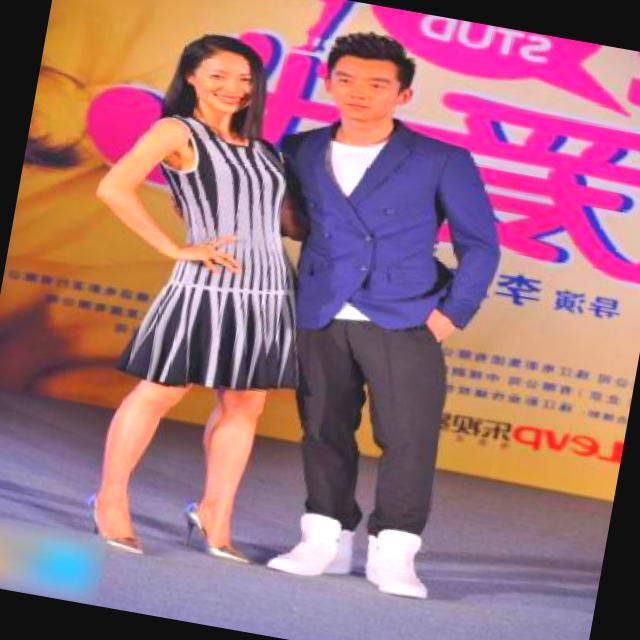Person: (235, 0, 559, 639), (25, 12, 346, 609)
